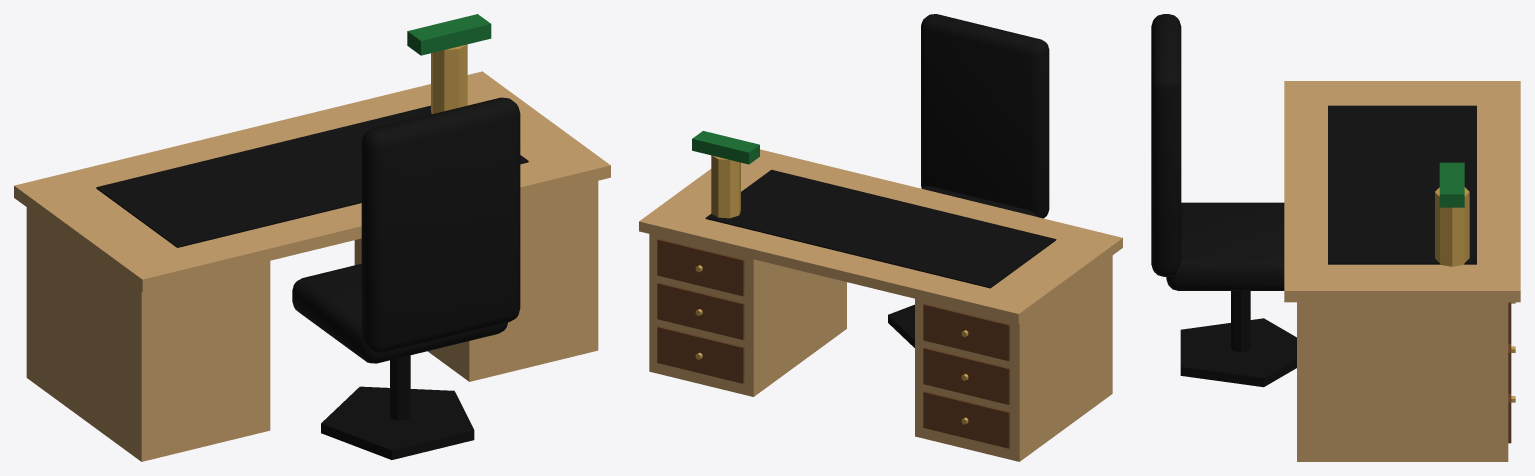
File: justice.court.judges_desk.glb
3 renders of one model, left to right at view 1: azimuth 30°, elevation 25°; view 2: azimuth 150°, elevation 25°; view 3: azimuth 270°, elevation 25°, orthographic. The views are drawn at different scales.
Parts seen in each view (by area): view 1: main__glulam, chair__leather_black, main__leather_black, chair__plastic_black, main__brass, main__plastic_green; view 2: main__glulam, chair__leather_black, main__hardwood, main__leather_black, main__brass, main__plastic_green, chair__plastic_black; view 3: main__glulam, main__leather_black, chair__leather_black, chair__plastic_black, main__brass, main__plastic_green, main__hardwood.
Part boxes in pixels (box(x1,y1,x2,y2)): main__glulam: box(14, 71, 610, 461); chair__leather_black: box(292, 97, 520, 363); main__leather_black: box(96, 105, 528, 247); chair__plastic_black: box(321, 355, 474, 459); main__brass: box(431, 44, 467, 114); main__plastic_green: box(407, 14, 491, 55); main__glulam: box(639, 149, 1122, 461); chair__leather_black: box(921, 14, 1049, 218); main__hardwood: box(657, 239, 1009, 448); main__leather_black: box(705, 169, 1056, 288); main__brass: box(695, 155, 968, 424); main__plastic_green: box(692, 131, 759, 164); chair__plastic_black: box(888, 304, 914, 347); main__glulam: box(1284, 81, 1520, 461); main__leather_black: box(1328, 105, 1476, 264); chair__leather_black: box(1151, 14, 1284, 290); chair__plastic_black: box(1180, 291, 1296, 387); main__brass: box(1435, 187, 1515, 402); main__plastic_green: box(1439, 162, 1464, 207); main__hardwood: box(1508, 302, 1511, 443).
Size of the model in its own units: 2 by 1.4 by 1.48.
